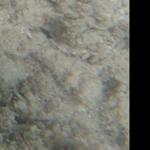dead: (1, 1, 129, 149)
